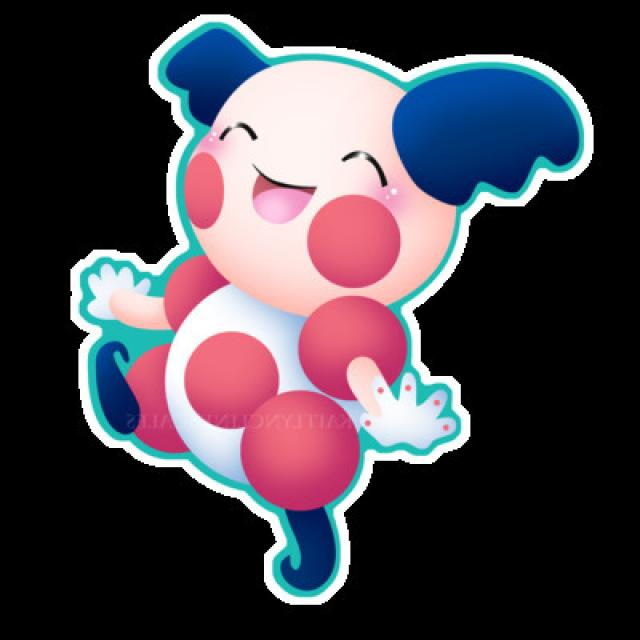MrMime: (48, 14, 586, 611)
